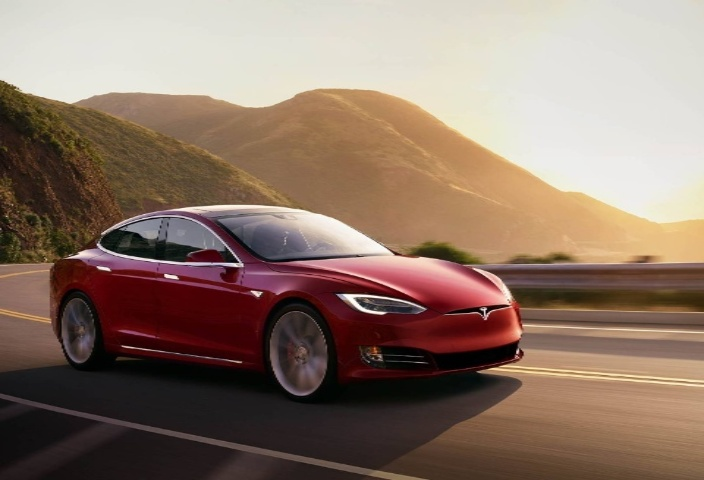car: (18, 190, 544, 405)
